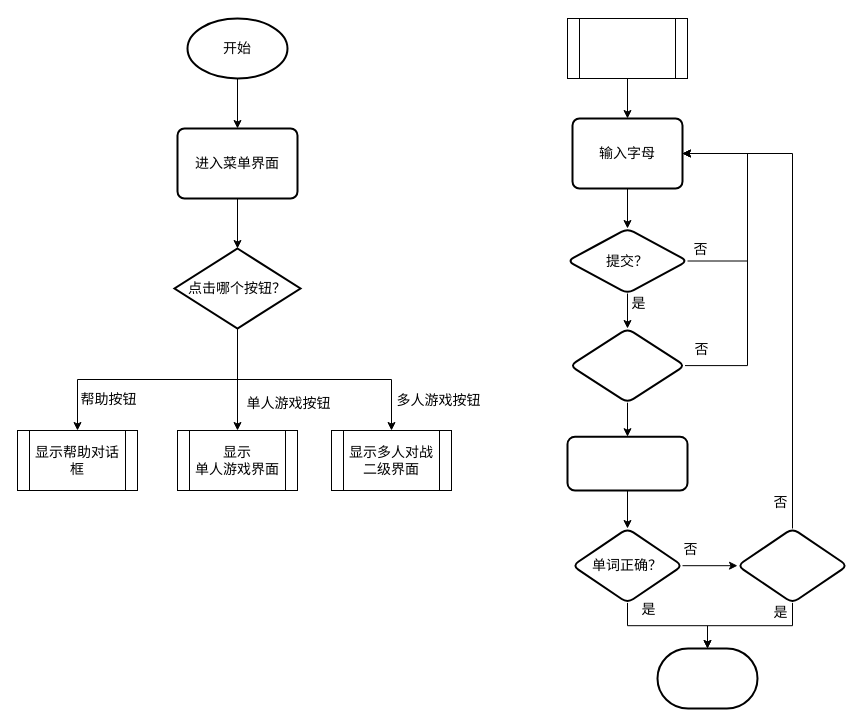
Some shapes in this 866 by 726 pixel diagram are drawn without their labels. The centre of each missing label's shape, as x and y in pixels:
"单词合法？" belongs at [627,365].
"基本游戏流程" belongs at [627,48].
"次数超限？" belongs at [792,565].
"游戏结束" belongs at [707,678].
"猜测次数+1" belongs at [627,463].
